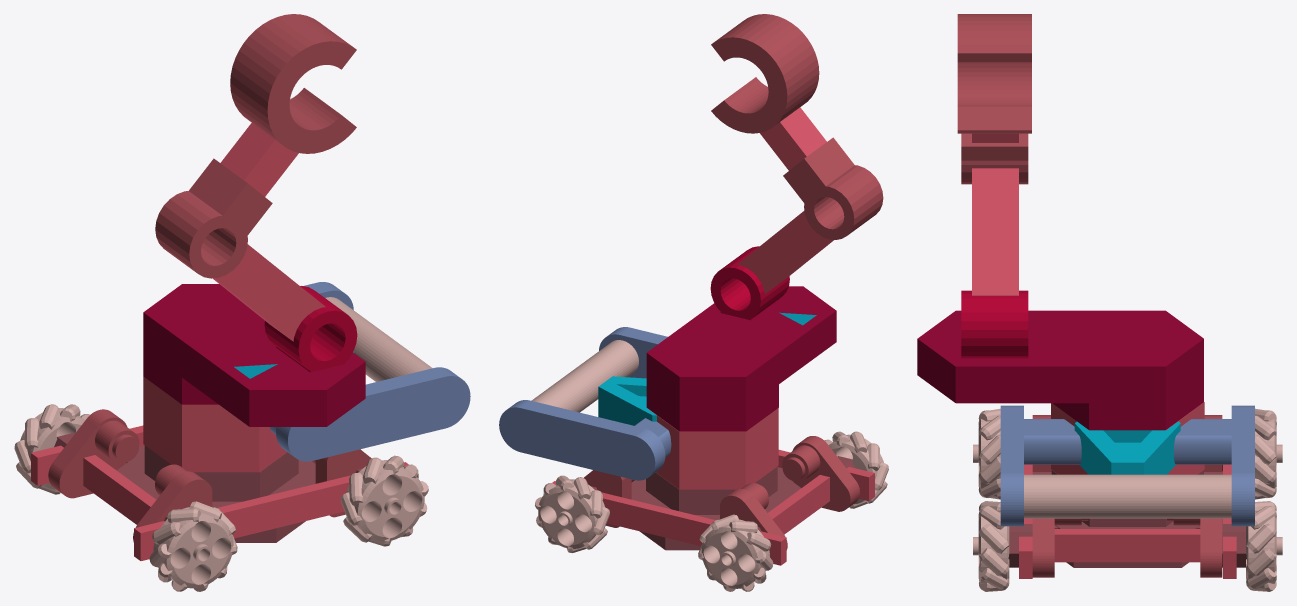
Rendered from bot-mecanum-red-manipulator.glb.
3 renders of one model, left to right at view 1: azimuth 30°, elevation 25°; view 2: azimuth 150°, elevation 25°; view 3: azimuth 270°, elevation 25°, orthographic. The views are drawn at different scales.
Parts seen in each view (by area): view 1: Mesh_Mesh_head_geo.001_lambert2SG.001; view 2: Mesh_Mesh_head_geo.001_lambert2SG.001; view 3: Mesh_Mesh_head_geo.001_lambert2SG.001.
Part boxes in pixels (x1,y1,x2,y2): Mesh_Mesh_head_geo.001_lambert2SG.001: (14, 14, 470, 591); Mesh_Mesh_head_geo.001_lambert2SG.001: (499, 14, 888, 591); Mesh_Mesh_head_geo.001_lambert2SG.001: (917, 14, 1282, 591).
Bounding box in the file's own units: 0.0272 × 0.0433 × 0.0271.
